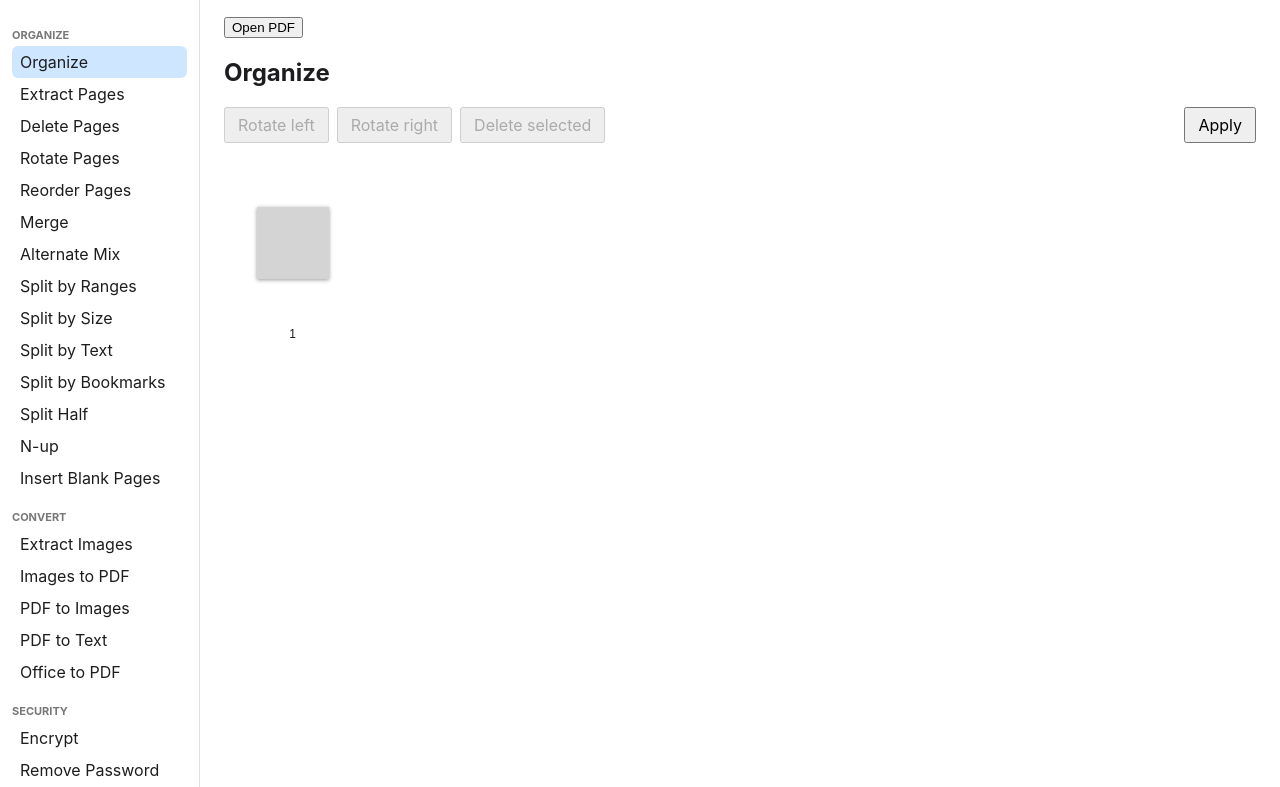
Test case: App › gives each tool only the dropped files it accepts
Click the button "Images to PDF" at (100, 576), box [12, 560, 187, 592]
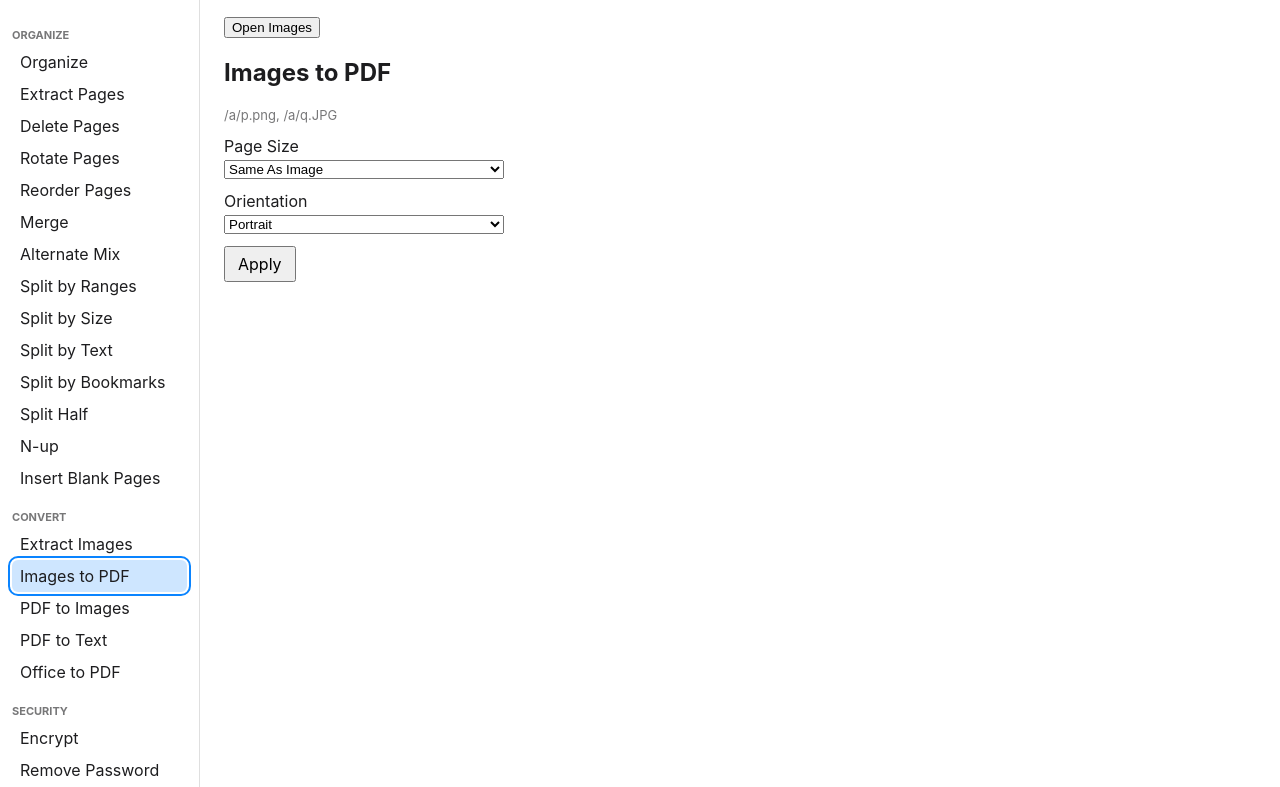
Now the text "/a/p.png, /a/q.JPG" is shown, box [224, 107, 337, 123]
Click the button "Rotate Pages" at (100, 158), box [12, 142, 187, 174]
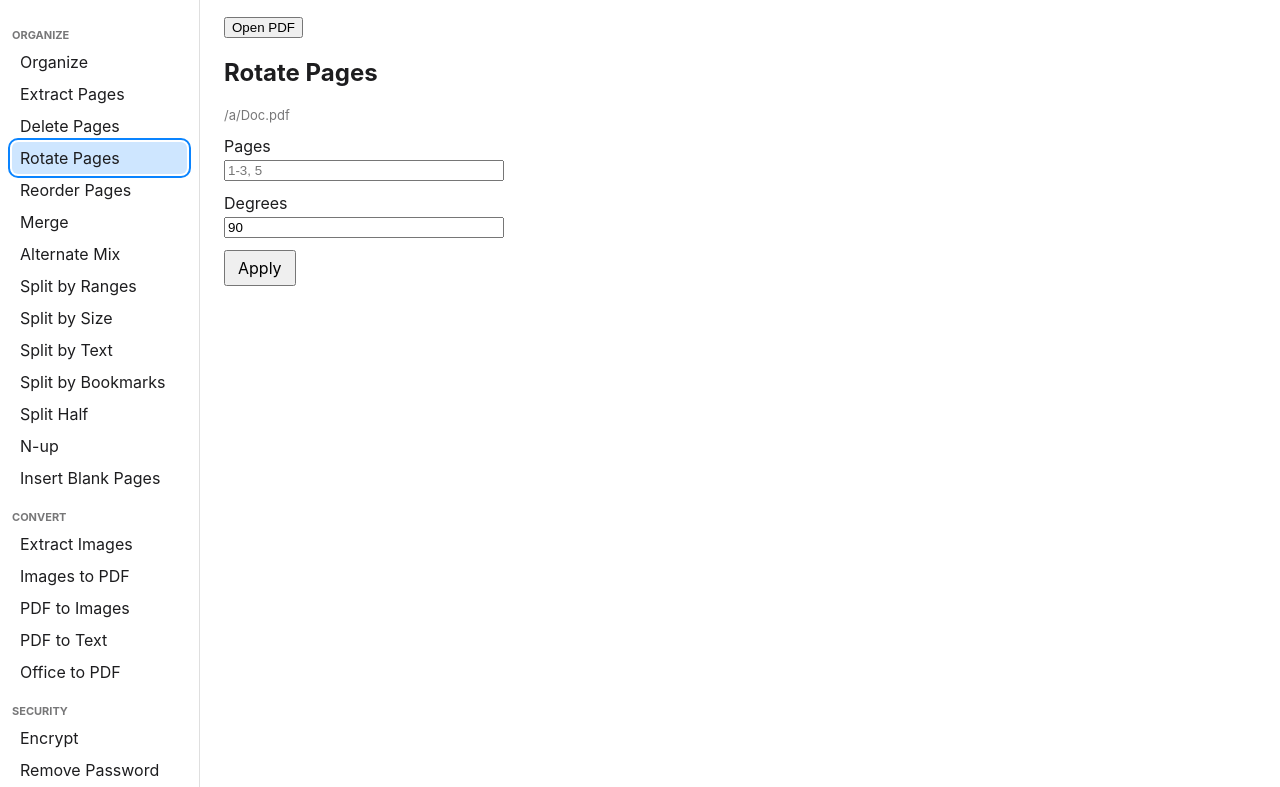
Now the text "/a/Doc.pdf" is shown, box [224, 107, 290, 123]
